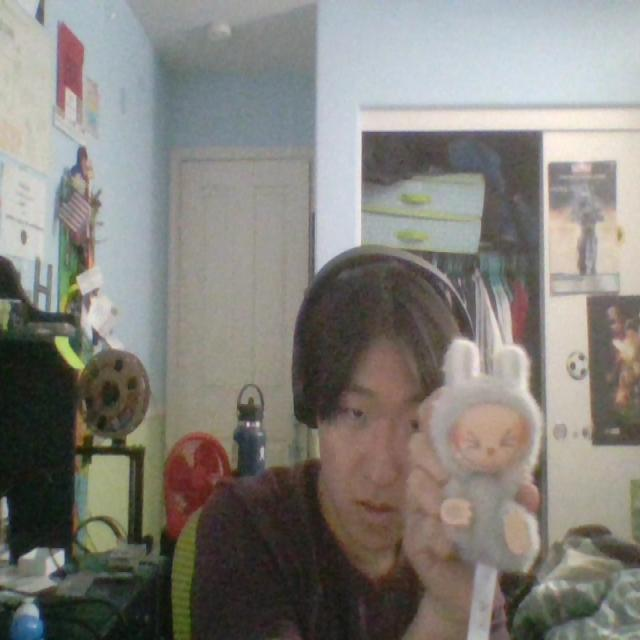labubu: (428, 340, 542, 571)
